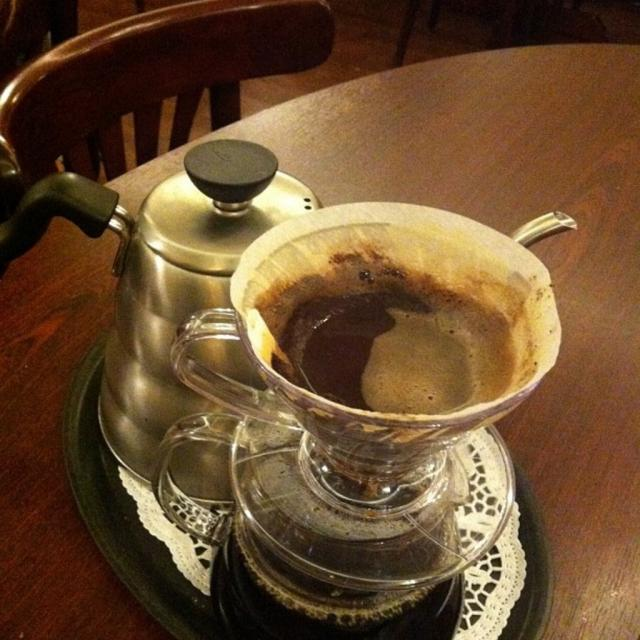Coffee: (208, 200, 576, 489)
